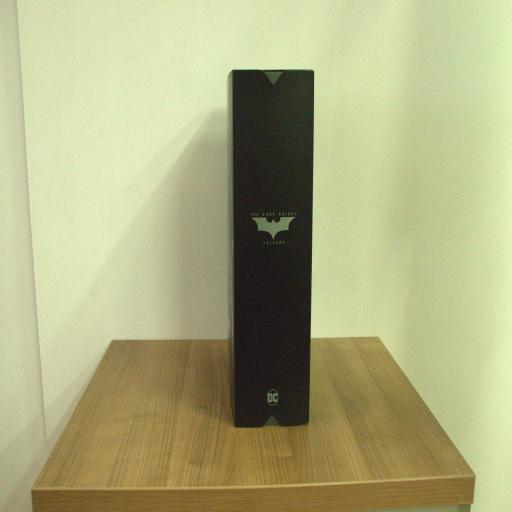catwoman: (226, 69, 314, 425)
